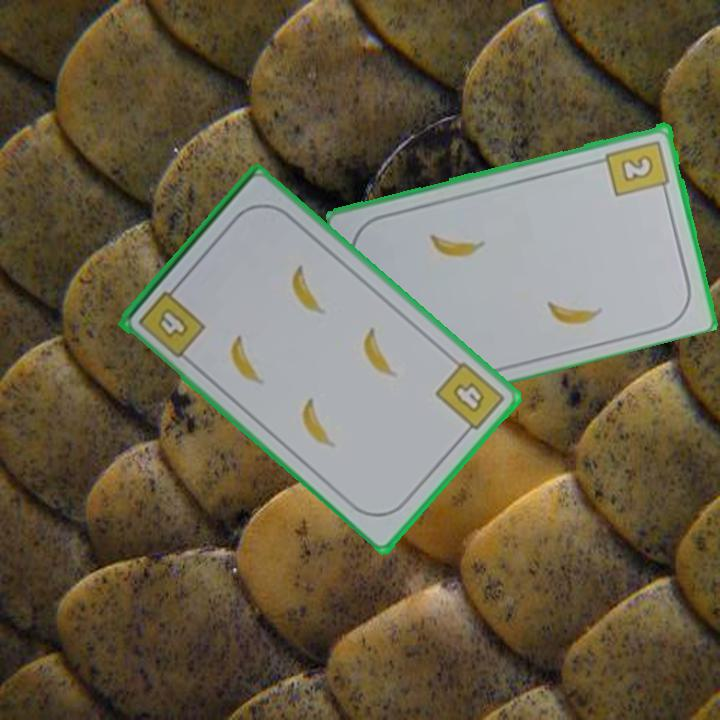2b: (603, 136, 673, 199)
4b: (432, 358, 508, 440), (134, 280, 209, 361)
